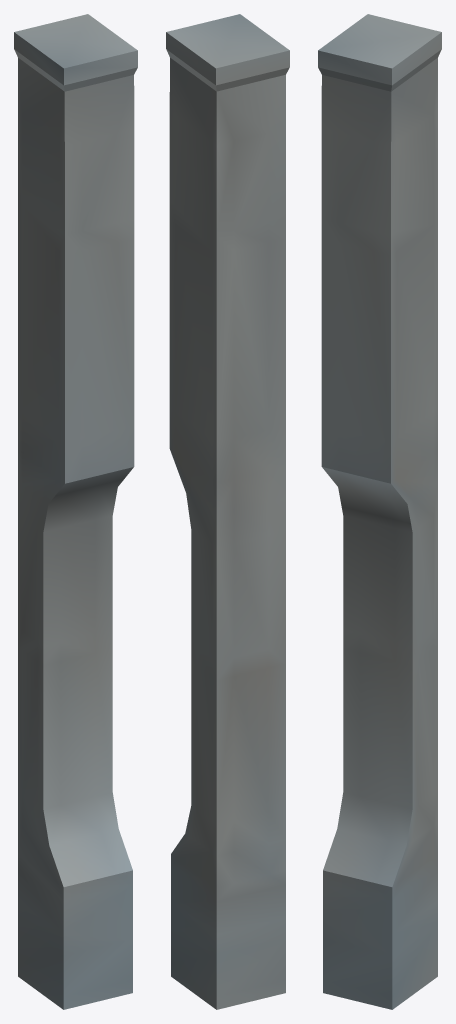
3 views of the same model, side by side, from view 1: azimuth 30°, elevation 25°; view 2: azimuth 210°, elevation 25°; view 3: azimuth 330°, elevation 25° (orthographic).
Visible parts, largest first — view 1: G:\FFXIV-MapTools\exports\w1f3\bg\ffxiv\wil_w1\fld\w1f3\bgpa (×2); view 2: G:\FFXIV-MapTools\exports\w1f3\bg\ffxiv\wil_w1\fld\w1f3\bgpa (×2); view 3: G:\FFXIV-MapTools\exports\w1f3\bg\ffxiv\wil_w1\fld\w1f3\bgpa (×2).
Part boxes in pixels (x1,y1,x2,y2): G:\FFXIV-MapTools\exports\w1f3\bg\ffxiv\wil_w1\fld\w1f3\bgpa (×2): (14,14,137,1009); G:\FFXIV-MapTools\exports\w1f3\bg\ffxiv\wil_w1\fld\w1f3\bgpa (×2): (166,14,289,1009); G:\FFXIV-MapTools\exports\w1f3\bg\ffxiv\wil_w1\fld\w1f3\bgpa (×2): (318,14,441,1009).
Size of the model in its own units: 2.14 by 26.09 by 2.49.
